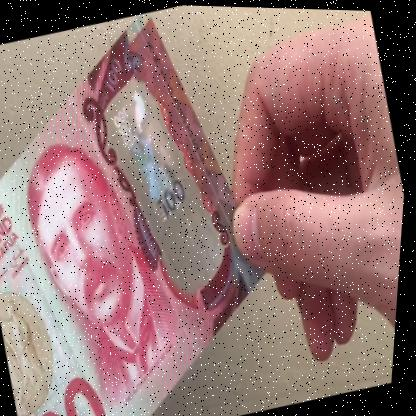100F: (100, 72, 236, 283)
